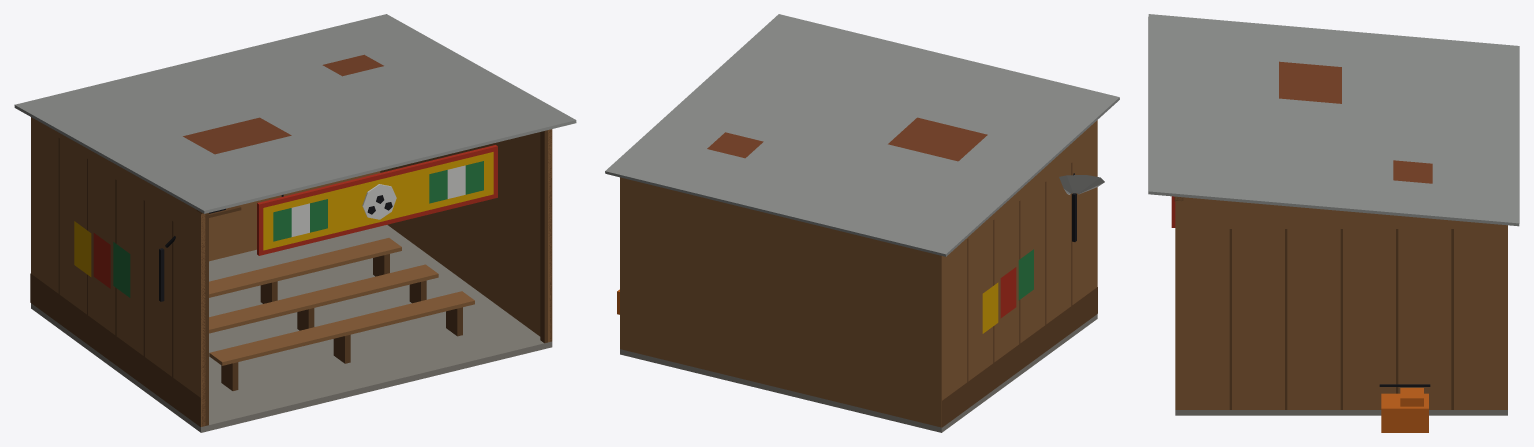
Rendered from shop_viewing-centre.a902d6a9f637.glb.
3 renders of one model, left to right at view 1: azimuth 30°, elevation 25°; view 2: azimuth 150°, elevation 25°; view 3: azimuth 270°, elevation 25°, orthographic. The views are drawn at different scales.
Parts seen in each view (by area): view 1: body; view 2: body; view 3: body.
Part boxes in pixels (box(x1,y1,x2,y2)): body: box(14, 14, 576, 432); body: box(605, 14, 1119, 432); body: box(1148, 14, 1519, 432).
Bounding box in the file's own units: 6.05 × 3.19 × 4.68.
